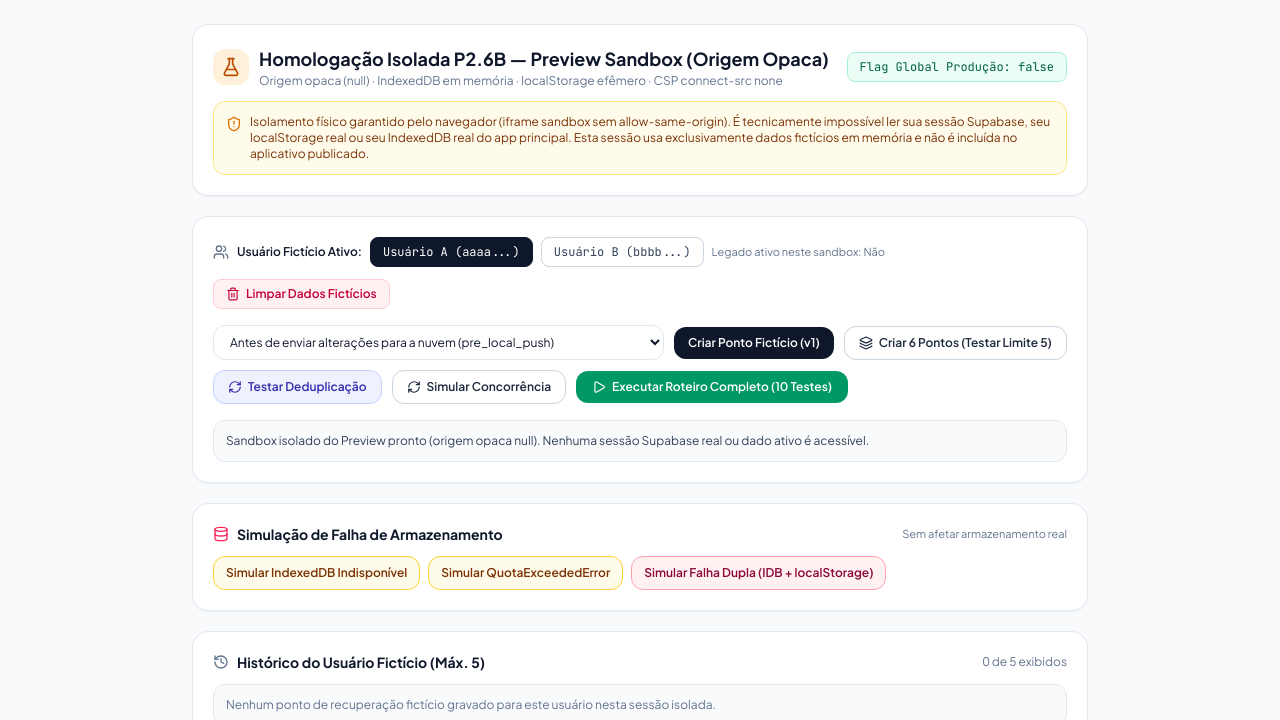
Test: P2.6B — Homologação Isolada no Preview do Google AI Studio (UI Sandbox) › 1. Mantém flag global false e permite testar visualmente criação, limite de 5, deduplicação, detalhes, download/validação JSON e falhas sem tocar Supabase
The width and height of the screenshot is (1280, 720).
Later steps or results of the test are not shown.
Expected: the text with test id "homolog-global-flag-badge" shows "false", x1=1018 y1=59 x2=1054 y2=75
# 1 & 2. Cria 6 snapshots em sequência e confirma limite visual de 5 pontos
Click the button "Criar 6 Pontos (Testar Limite 5)": click(955, 342) x1=844 y1=326 x2=1067 y2=360
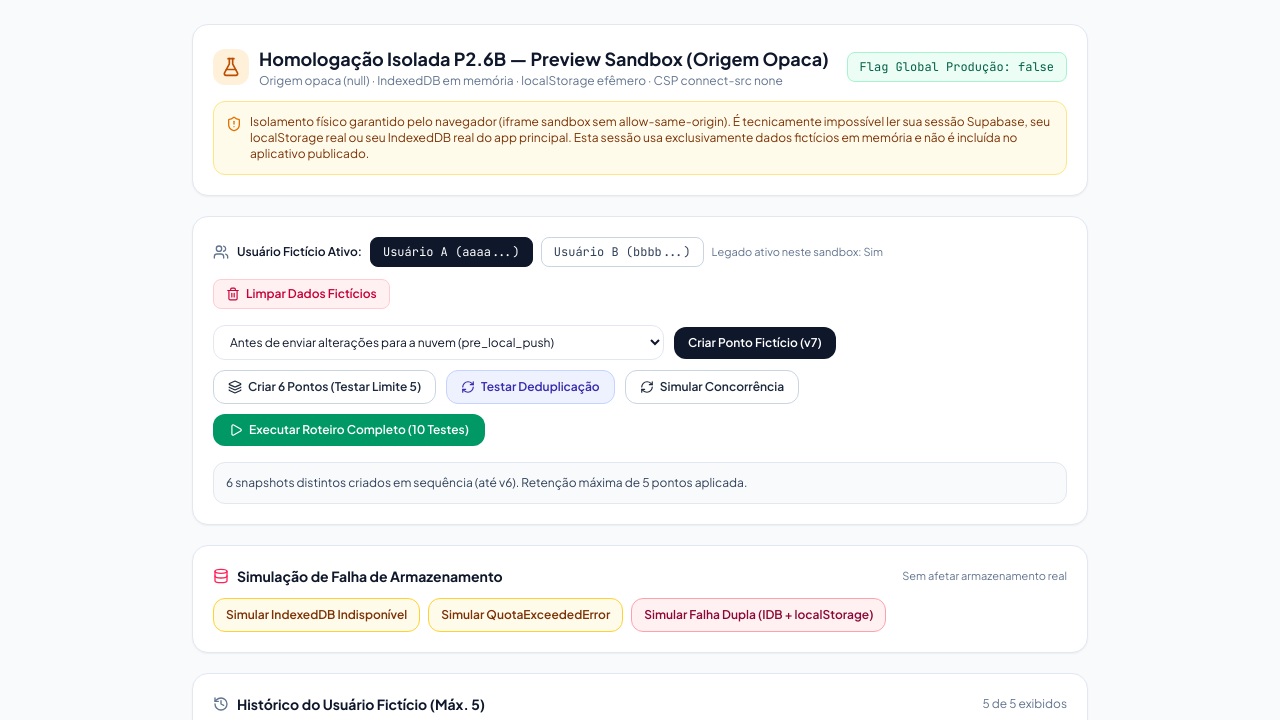
# Testa deduplicação sem aumentar o histórico
Click the button "Testar Deduplicação": click(530, 387) x1=446 y1=370 x2=615 y2=404
(page scrolled)
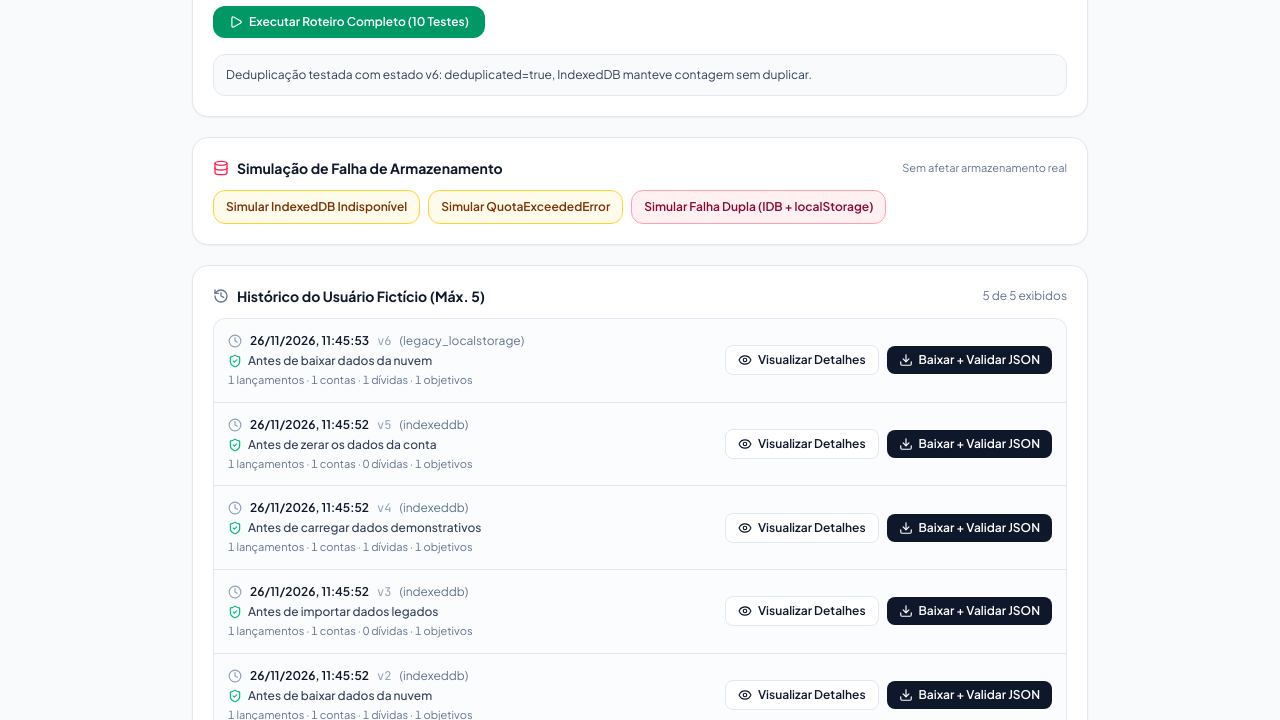
Now the text with test id "homolog-history-counter" reads "5 de 5 exibidos", box x1=982 y1=288 x2=1067 y2=304
# Visualização de detalhes (somente leitura, sem botão de restauração)
Click the button "Visualizar Detalhes" in the row of "legacy_localstorage": click(802, 360) x1=725 y1=345 x2=878 y2=375
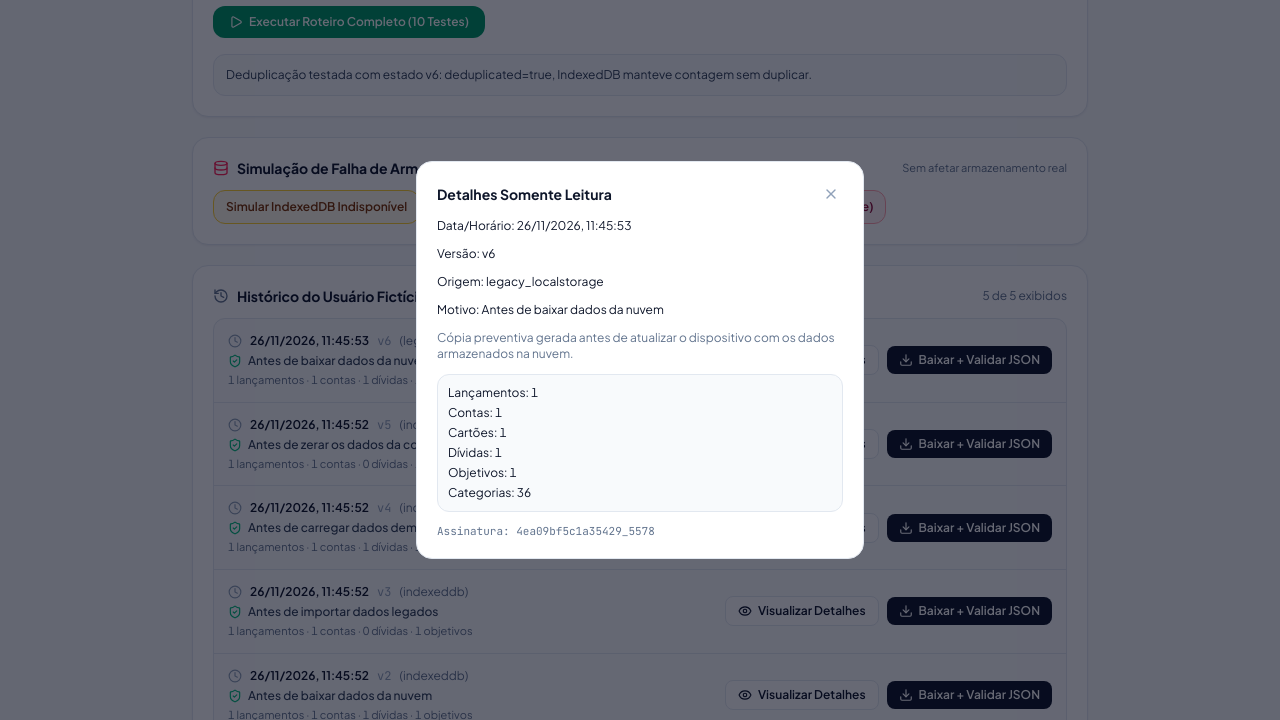
Now the dialog is shown
Now the dialog shows "Versão: v6"
